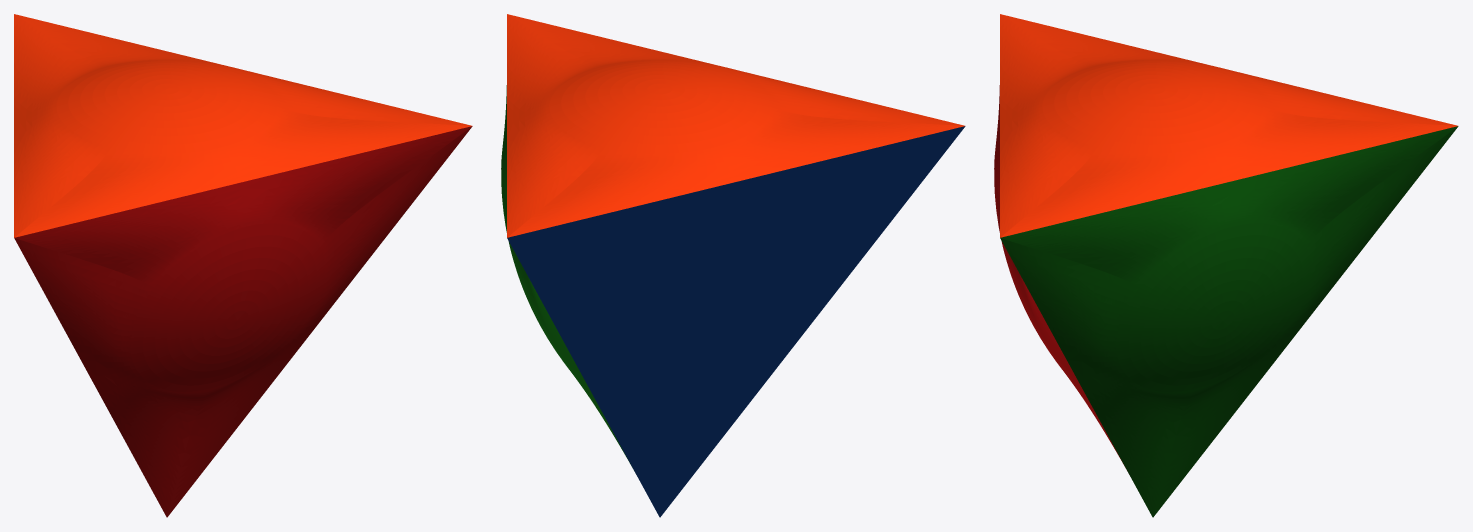
Rendered from 1_1_0_1_tetrahedron.obj.
The picture shows the model from 3 angles, left to right: view 1: azimuth 30°, elevation 25°; view 2: azimuth 150°, elevation 25°; view 3: azimuth 270°, elevation 25°; orthographic projection.
Parts seen in each view (by area): view 1: Level_1_-_level_1_front_Level_1_-_level_1_front.002, Level_1_-_level_1_top_Level_1_-_level_1_top.002; view 2: Level_0_-_level_0_left, Level_1_-_level_1_top_Level_1_-_level_1_top.002, Level_1_-_level_1_right_Level_1_-_level_1_right.002; view 3: Level_1_-_level_1_right_Level_1_-_level_1_right.002, Level_1_-_level_1_top_Level_1_-_level_1_top.002, Level_1_-_level_1_front_Level_1_-_level_1_front.002.
Part boxes in pixels (x1,y1,x2,y2): Level_1_-_level_1_front_Level_1_-_level_1_front.002: [14, 126, 472, 517]; Level_1_-_level_1_top_Level_1_-_level_1_top.002: [14, 14, 471, 237]; Level_0_-_level_0_left: [507, 126, 965, 517]; Level_1_-_level_1_top_Level_1_-_level_1_top.002: [507, 14, 964, 237]; Level_1_-_level_1_right_Level_1_-_level_1_right.002: [501, 85, 632, 467]; Level_1_-_level_1_right_Level_1_-_level_1_right.002: [1000, 126, 1458, 517]; Level_1_-_level_1_top_Level_1_-_level_1_top.002: [1000, 14, 1457, 237]; Level_1_-_level_1_front_Level_1_-_level_1_front.002: [994, 85, 1125, 467].
Bounding box in the file's own units: 0.1 × 0.0894 × 0.0877.
